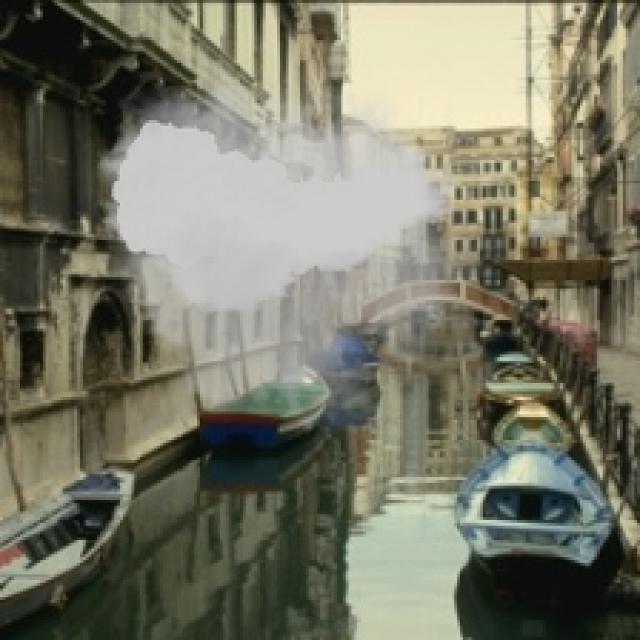Smoke: (86, 54, 480, 454)
